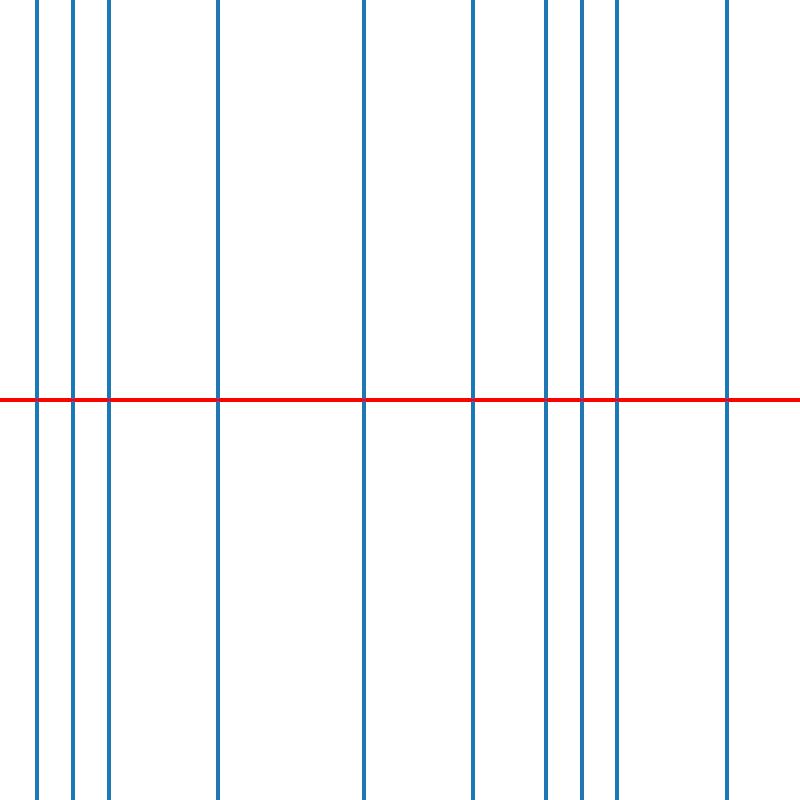root: (541, 396, 549, 404), (32, 396, 40, 404), (578, 396, 585, 404), (214, 396, 221, 404), (469, 396, 476, 404), (614, 396, 621, 404), (360, 396, 367, 404), (723, 396, 730, 404), (69, 396, 76, 404), (105, 396, 112, 404)
